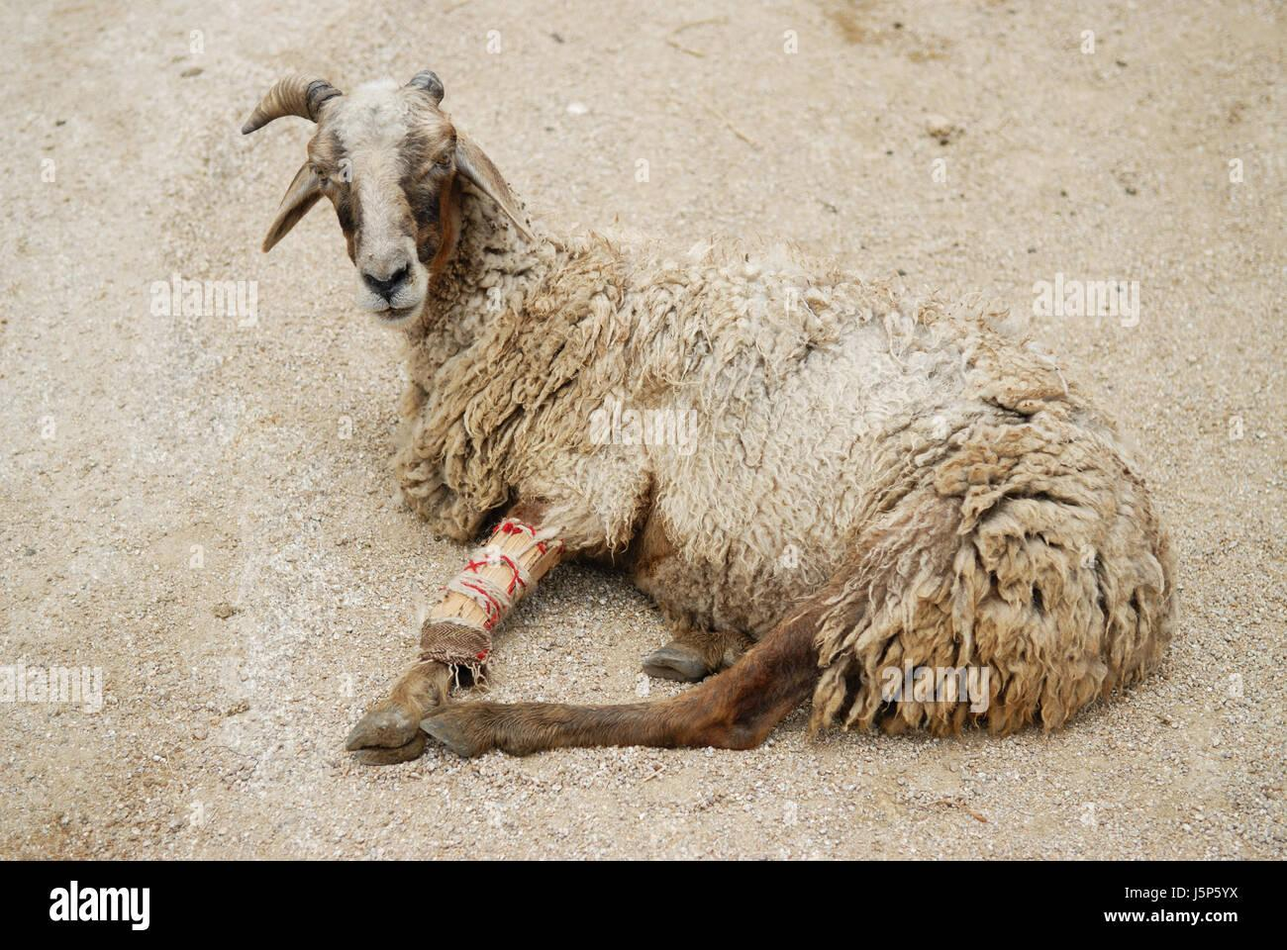fracture: (368, 447, 644, 686)
